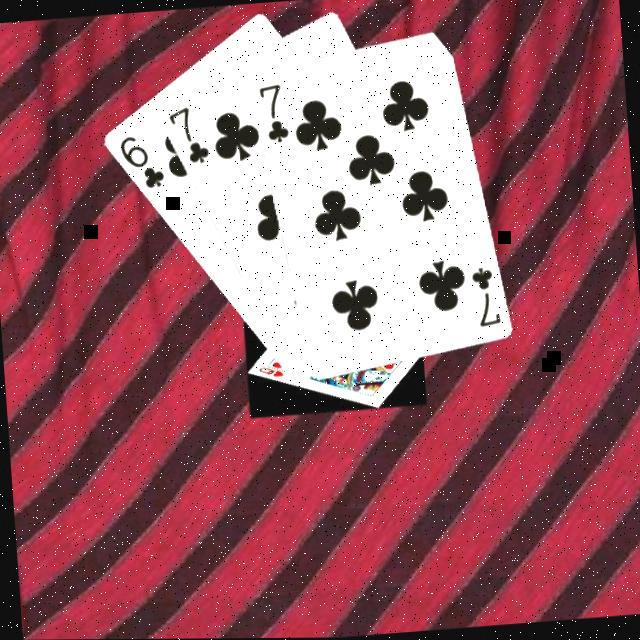6C: (115, 131, 168, 194)
7C: (165, 102, 213, 169), (467, 264, 504, 332), (254, 81, 292, 147)
